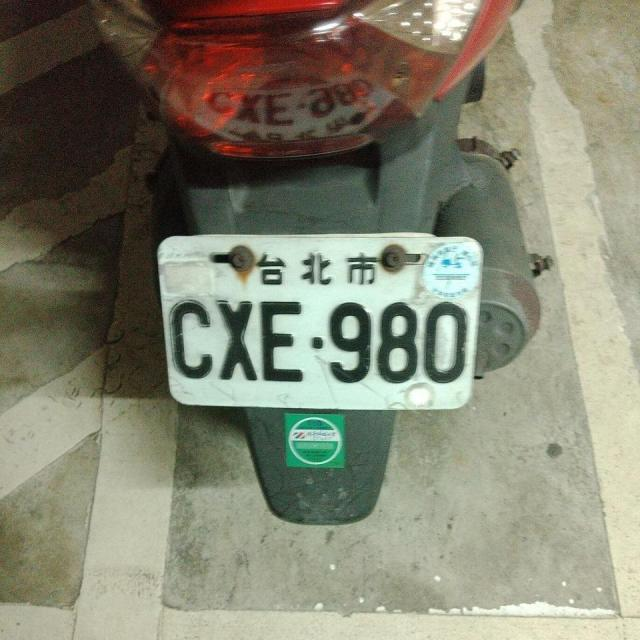W: (150, 222, 487, 411)
